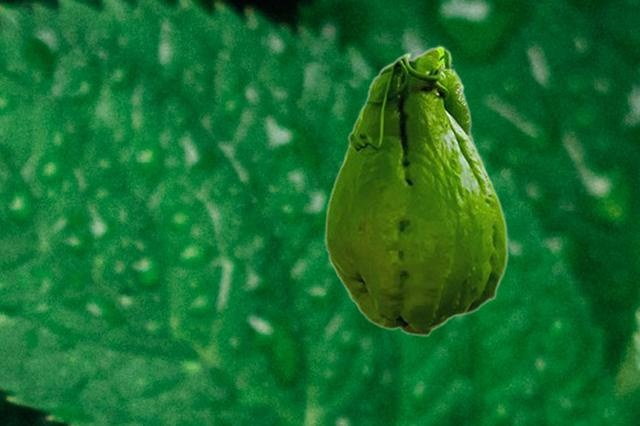sayote: (324, 45, 508, 336)
